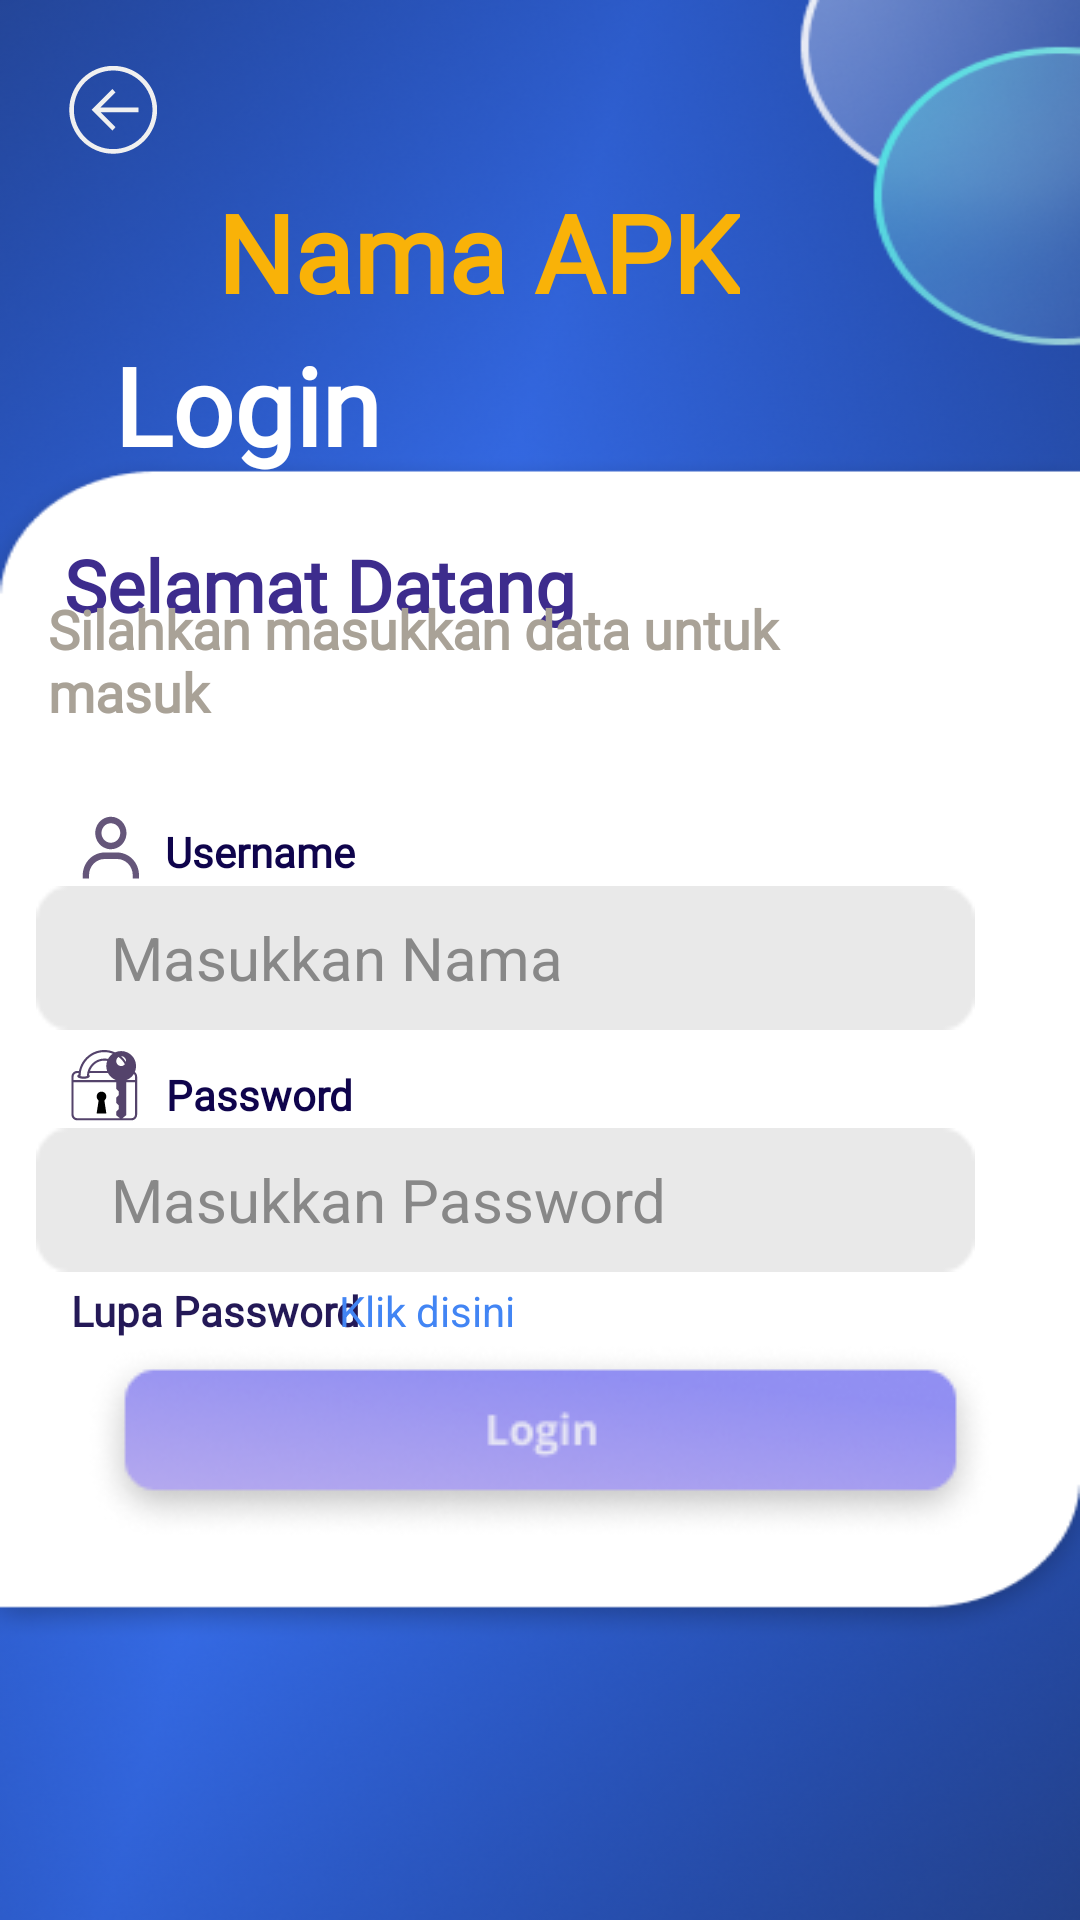

Icon bounding boxes for this 1080×1920 phone screenshot, format bbox=(x1, y1, x2, y2):
backbtn: bbox=(69, 66, 157, 154)
bxuser: bbox=(82, 816, 139, 879)
gembok: bbox=(71, 1050, 138, 1121)
